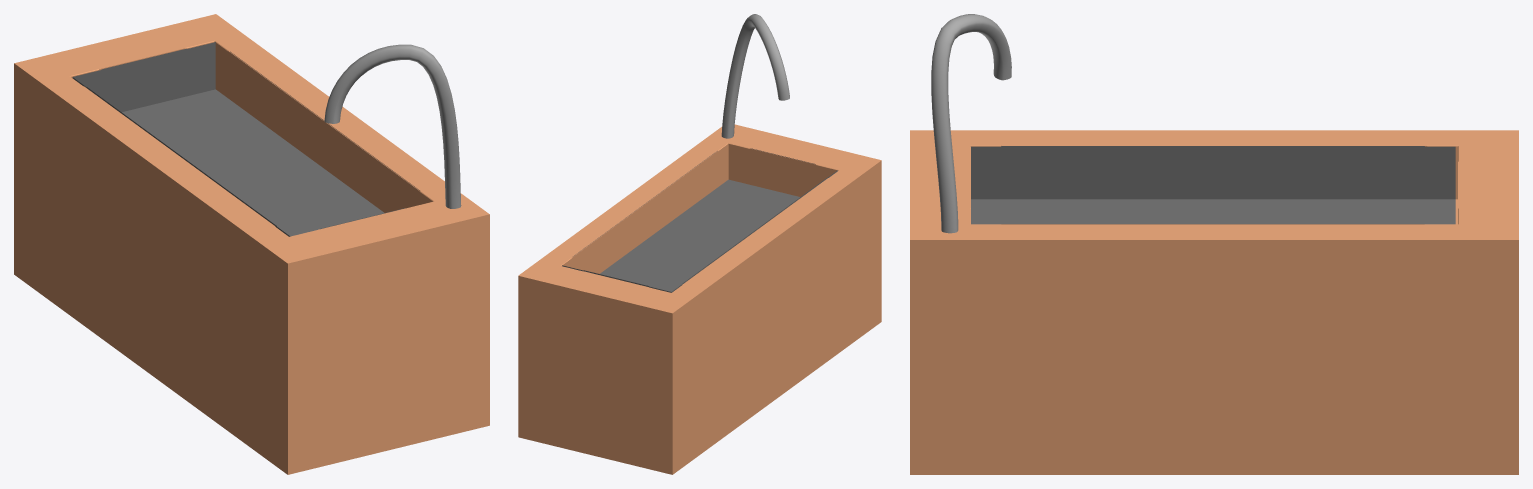
The model's file is sink.fbx.
3 renders of one model, left to right at view 1: azimuth 30°, elevation 25°; view 2: azimuth 150°, elevation 25°; view 3: azimuth 270°, elevation 25°, orthographic. The views are drawn at different scales.
Visible parts, largest first — view 1: sink.001, sink, BézierCurve; view 2: sink.001, sink, BézierCurve; view 3: sink.001, sink, BézierCurve.
Part boxes in pixels (x1,y1,x2,y2): sink.001: [14, 14, 489, 474]; sink: [72, 42, 419, 236]; BézierCurve: [324, 44, 461, 208]; sink.001: [518, 124, 881, 474]; sink: [562, 148, 837, 292]; BézierCurve: [721, 14, 789, 138]; sink.001: [910, 130, 1518, 474]; sink: [971, 146, 1455, 224]; BézierCurve: [931, 14, 1011, 233].
Size of the model in its own units: 703 by 1263 by 1649.
